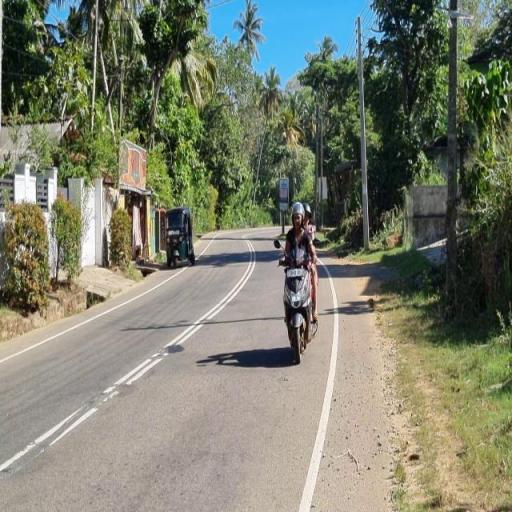double_white_line: (105, 237, 257, 403)
